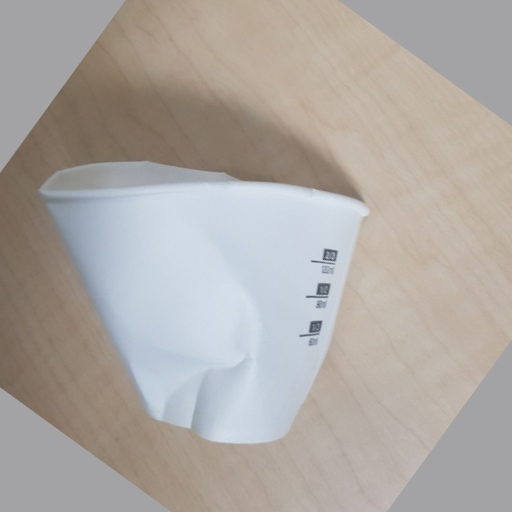Paper_1: (41, 160, 367, 443)
